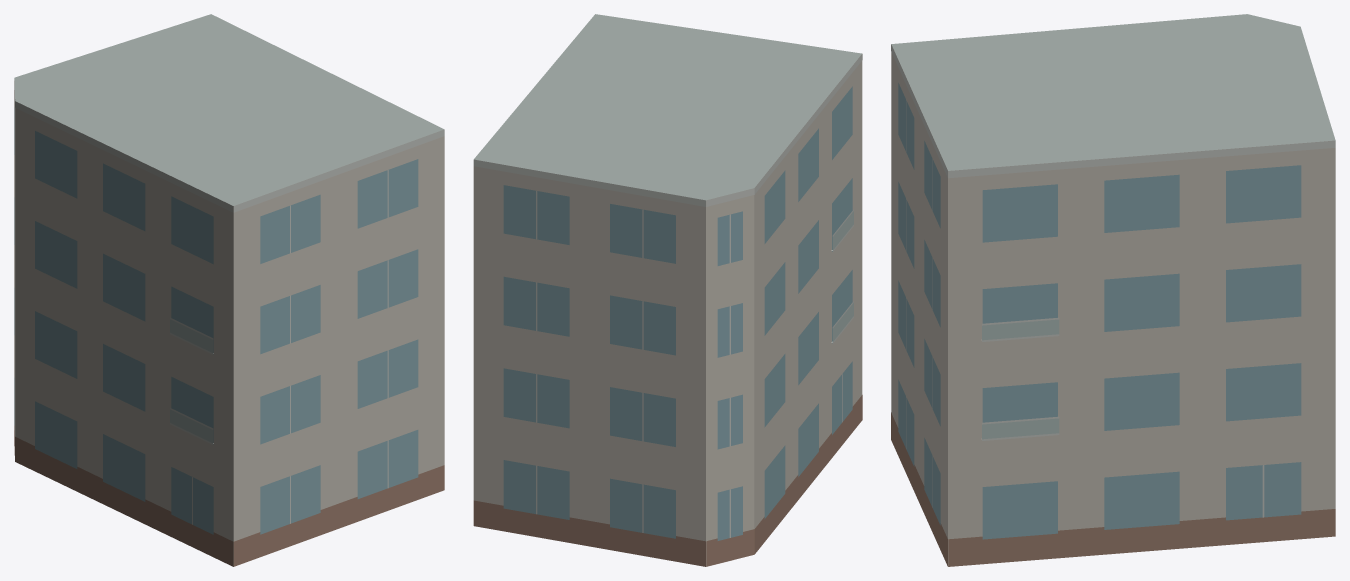
Rendered from survey-upis-32626690.glb.
The picture shows the model from 3 angles, left to right: view 1: azimuth 30°, elevation 25°; view 2: azimuth 150°, elevation 25°; view 3: azimuth 270°, elevation 25°; orthographic projection. The views are drawn at different scales.
Parts seen in each view (by area): view 1: survey-upis-32626690.tmp; view 2: survey-upis-32626690.tmp; view 3: survey-upis-32626690.tmp.
Part boxes in pixels (box(x1,y1,x2,y2)): survey-upis-32626690.tmp: box(14, 14, 444, 566); survey-upis-32626690.tmp: box(473, 14, 862, 566); survey-upis-32626690.tmp: box(891, 14, 1335, 566).
Bounding box in the file's own units: 11.28 × 13.25 × 13.49.
